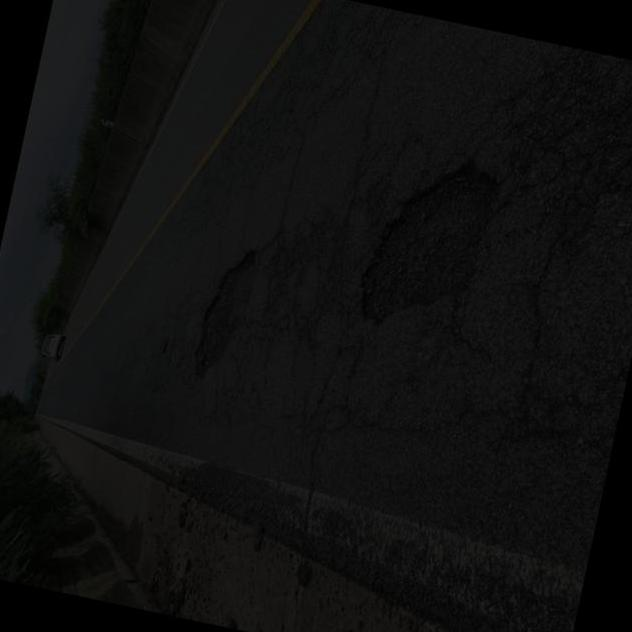pothole: (312, 96, 538, 376), (166, 233, 270, 398)
